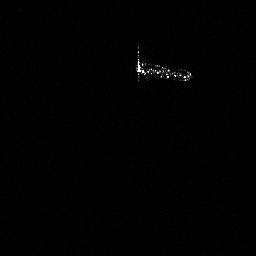ship: (131, 40, 195, 85)
